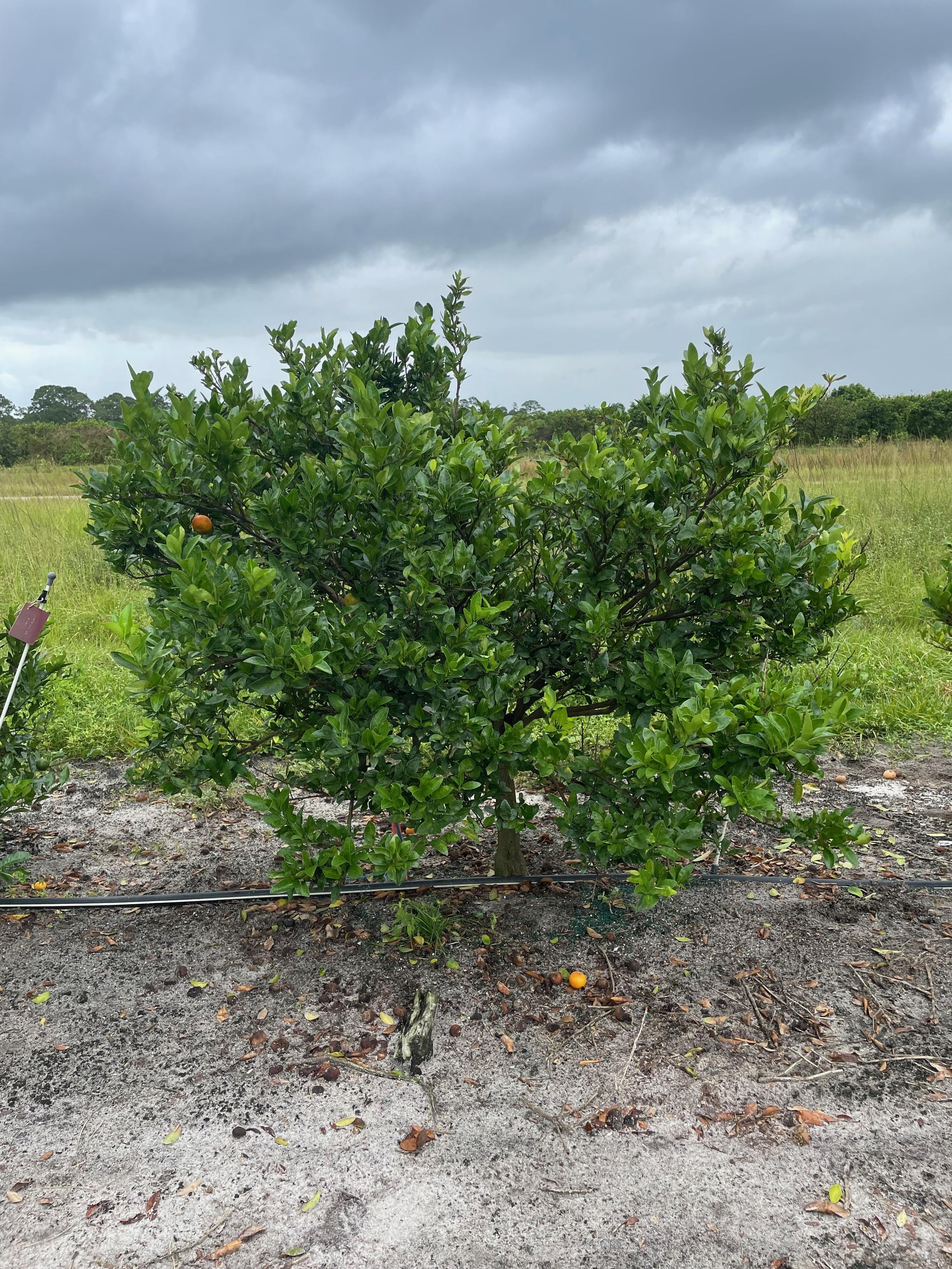fruit_on_ground: (190, 512, 214, 536), (342, 590, 363, 609), (35, 757, 50, 772)
fruit_on_tree: (567, 969, 588, 990), (548, 968, 565, 985), (447, 1021, 463, 1038), (880, 767, 899, 780), (402, 824, 417, 838), (32, 879, 48, 892), (834, 771, 849, 784)
